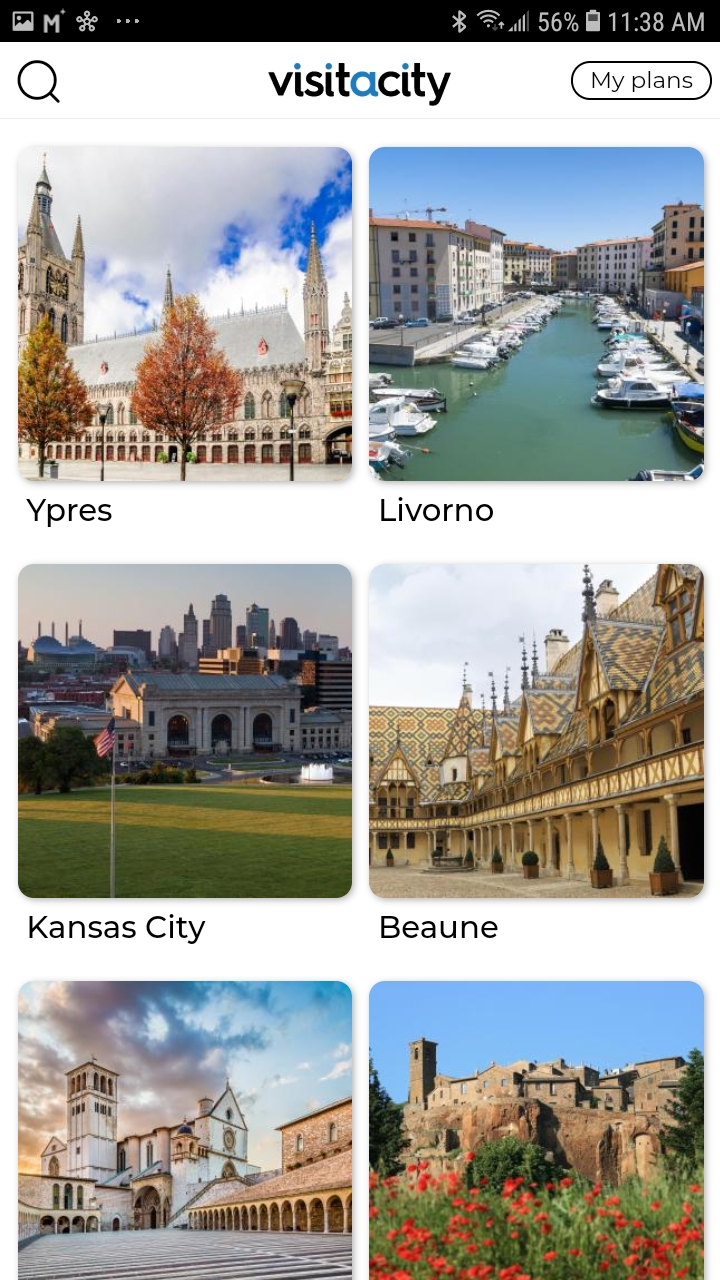Icon: (18, 60, 62, 105)
Image: (18, 146, 353, 483), (368, 147, 704, 482), (369, 564, 704, 899), (18, 564, 353, 898), (368, 981, 704, 1280), (18, 981, 353, 1280), (268, 63, 452, 108)
Text: (29, 914, 207, 945), (381, 916, 499, 939), (381, 498, 493, 522), (26, 498, 113, 528)
TextButton: (570, 62, 713, 102)
UpperTaskBar: (1, 1, 720, 43)
